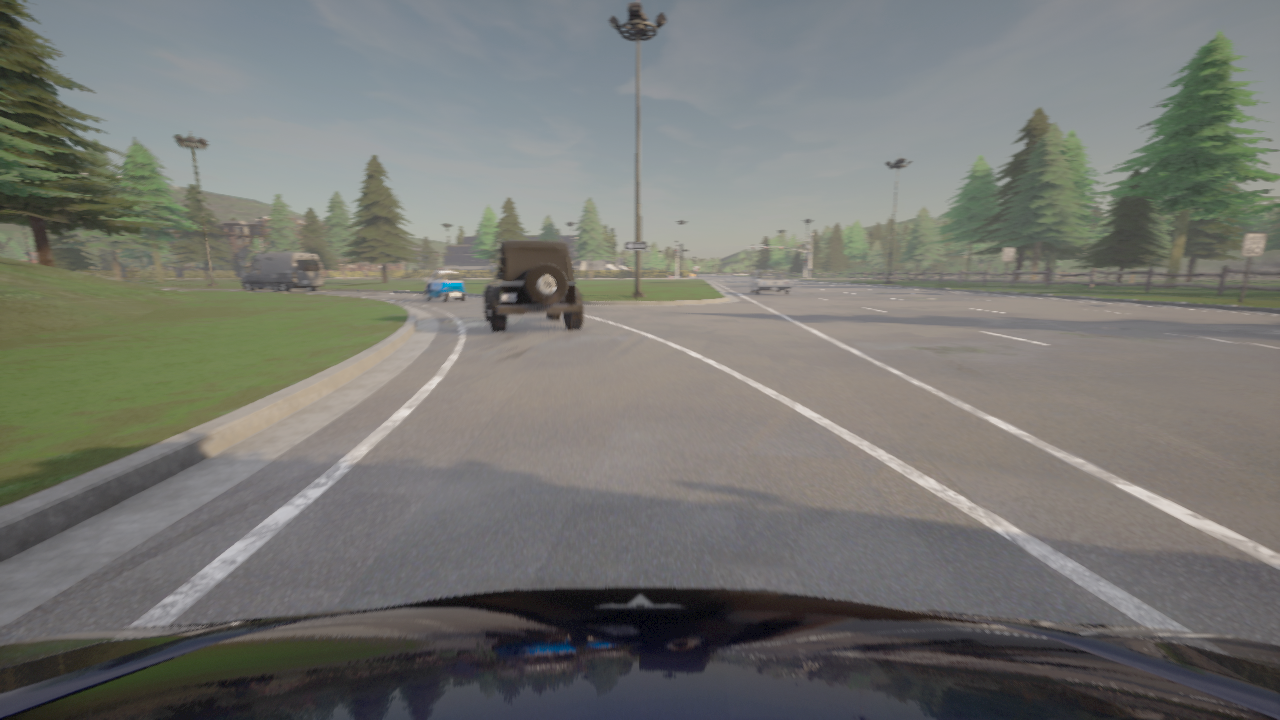cyclist: (0, 588, 1279, 719), (482, 240, 582, 332), (241, 252, 323, 292), (424, 270, 465, 302), (750, 272, 791, 295)
